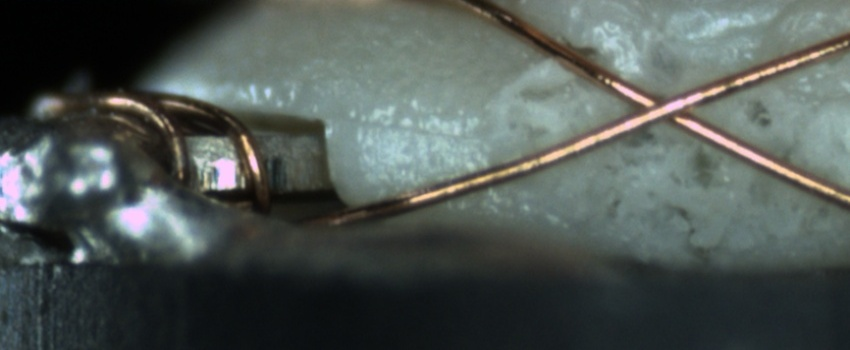CL: (594, 69, 730, 139)
DL: (358, 97, 481, 160)
TE: (31, 79, 279, 219)
